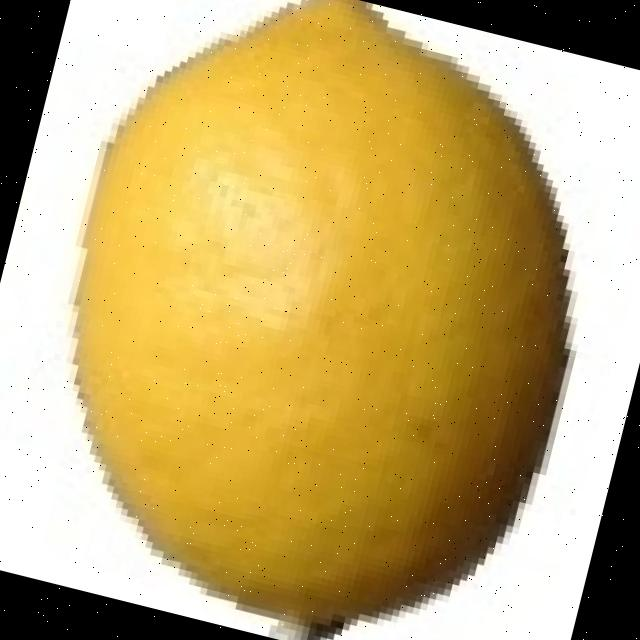lemon: (77, 0, 569, 633)
